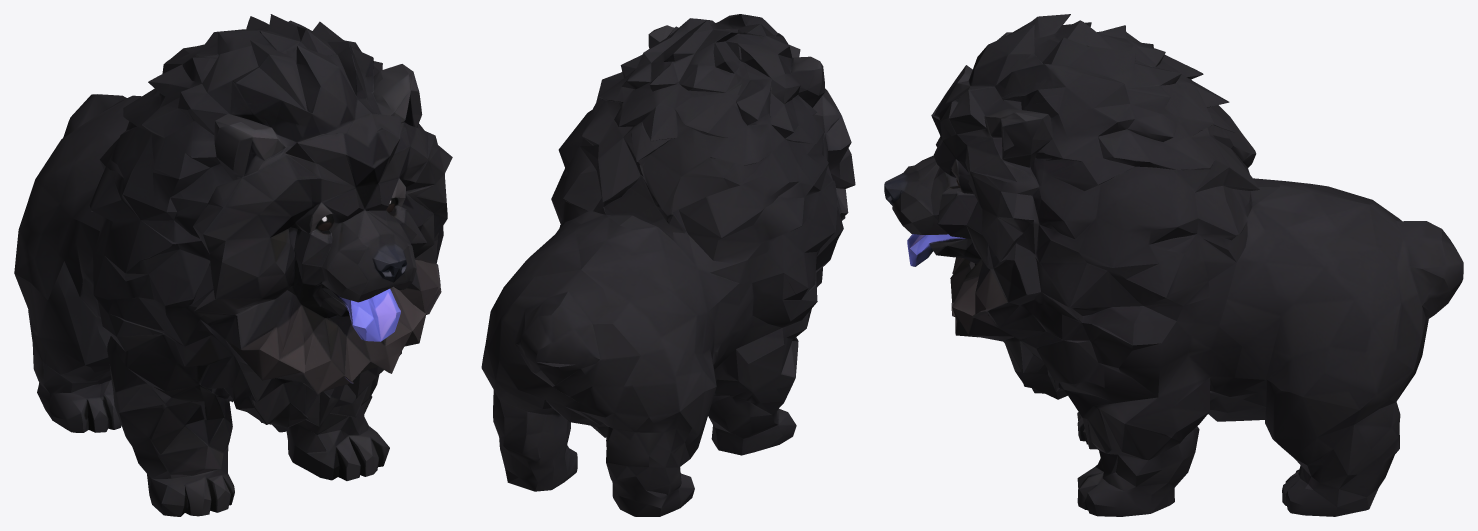
Rendered from Meshy_AI_Chow_Chow_10k_Tris_1023142633_texture.glb.
3 renders of one model, left to right at view 1: azimuth 30°, elevation 25°; view 2: azimuth 150°, elevation 25°; view 3: azimuth 270°, elevation 25°, orthographic. The views are drawn at different scales.
Parts seen in each view (by area): view 1: output_unwrapped; view 2: output_unwrapped; view 3: output_unwrapped.
Boxes of the visible parts, bbox=[...] form: output_unwrapped: bbox=[14, 14, 452, 516]; output_unwrapped: bbox=[481, 14, 855, 516]; output_unwrapped: bbox=[884, 14, 1463, 516].
Bounding box in the file's own units: 1.1 × 1.58 × 1.9.
Materials: 1 (1 with a texture image).
